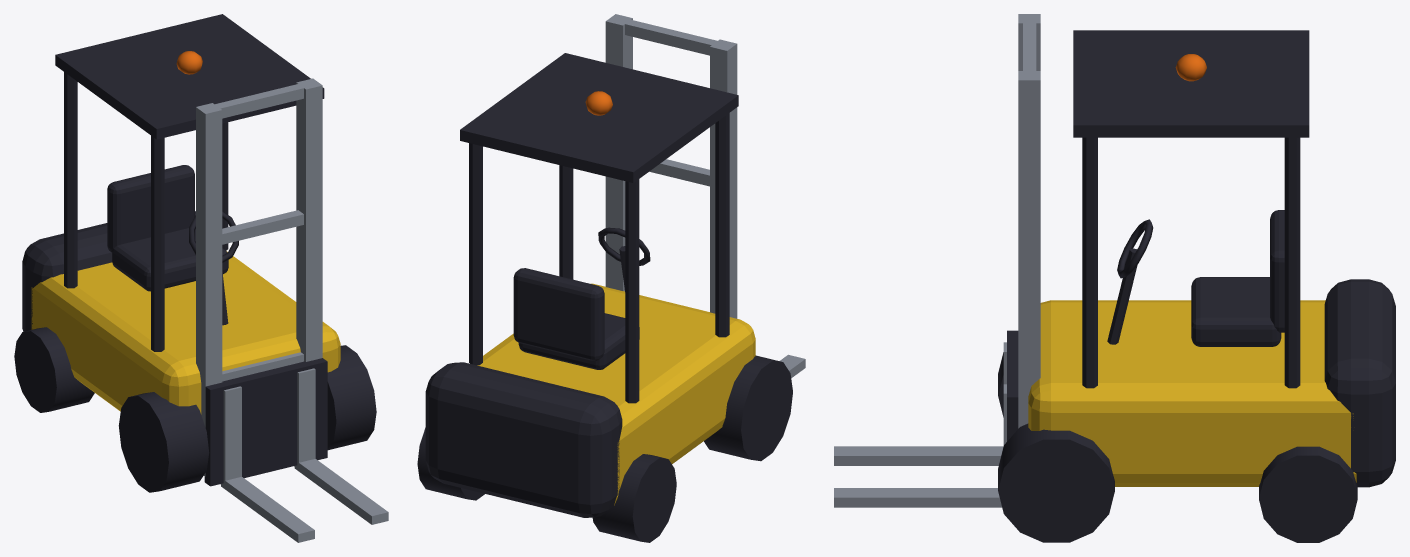
The model's file is machine-forklift.2869cba6.glb.
3 renders of one model, left to right at view 1: azimuth 30°, elevation 25°; view 2: azimuth 150°, elevation 25°; view 3: azimuth 270°, elevation 25°, orthographic. The views are drawn at different scales.
Parts seen in each view (by area): view 1: Body__T_vcol, Mast__T_vcol, Forks__T_vcol; view 2: Body__T_vcol, Mast__T_vcol; view 3: Body__T_vcol, Mast__T_vcol, Forks__T_vcol.
Part boxes in pixels (x1=…): Body__T_vcol: x1=14, y1=14, x2=376, y2=492; Mast__T_vcol: x1=196, y1=78, x2=322, y2=476; Forks__T_vcol: x1=204, y1=358, x2=388, y2=542; Body__T_vcol: x1=417, y1=53, x2=792, y2=542; Mast__T_vcol: x1=605, y1=14, x2=737, y2=318; Body__T_vcol: x1=998, y1=30, x2=1395, y2=542; Mast__T_vcol: x1=1018, y1=14, x2=1040, y2=428; Forks__T_vcol: x1=834, y1=330, x2=1018, y2=507.
Bounding box in the file's own units: 1.24 × 2.14 × 2.5.
